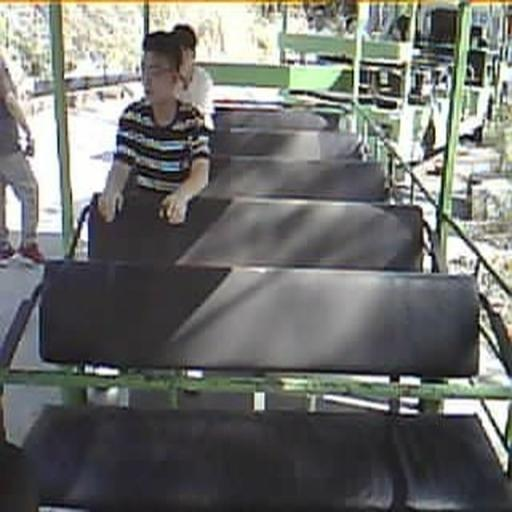persona: (97, 29, 214, 226), (171, 23, 217, 132)
